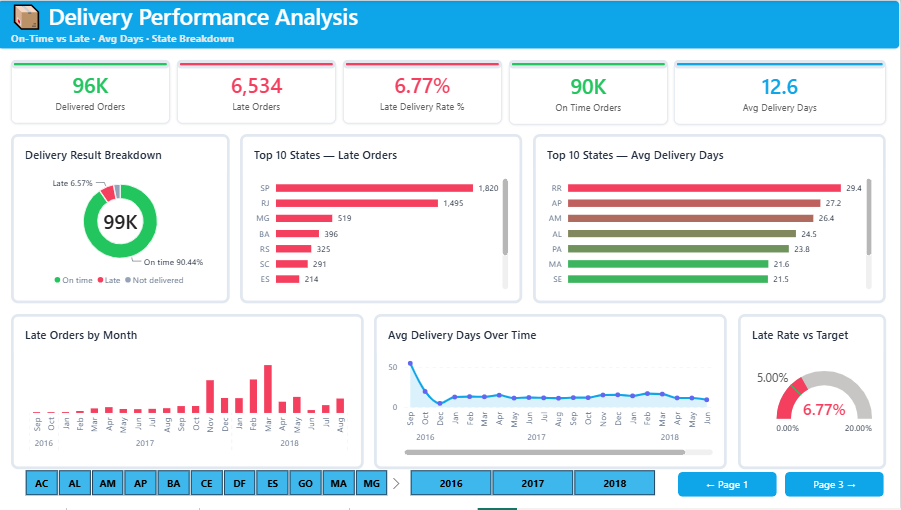

The page's visual inventory and layout, read from the dashboard file:
{"tool":"powerbi","page":{"name":"Delivery Analysis","canvas":[1280,720],"ordinal":1},"visuals":[{"type":"shape","box":[0,0,1280,70],"z":0},{"type":"textbox","box":[19.7,0,700.8,64.4],"z":1000},{"type":"textbox","box":[20,44,700,20],"z":2000},{"type":"card","fields":{"Values":["Orders.Delivered Orders"]},"box":[20,85,225,90],"z":3000},{"type":"card","fields":{"Values":["Orders.On Time Orders"]},"box":[725,85.8,225,90],"z":4000},{"type":"card","fields":{"Values":["Orders.Late Delivery Rate %"]},"box":[490,85,225,90],"z":5000},{"type":"card","fields":{"Values":["Orders.Late Orders"]},"box":[255,85,225,90],"z":6000},{"type":"card","fields":{"Values":["Orders.Avg Delivery Days"]},"box":[960,85.8,300,90],"z":7000},{"type":"shape","box":[20,85,225,12],"z":8000},{"type":"shape","box":[255,85,225,12],"z":9000},{"type":"shape","box":[490,85,225,12],"z":10000},{"type":"shape","box":[725,85,225,12],"z":11000},{"type":"shape","box":[960,85,300,12],"z":12000},{"type":"lineChart","title":"Avg Delivery Days Over Time","fields":{"Category":["DateTable.Year","DateTable.Month"],"Y":["Orders.Avg Delivery Days"]},"box":[535,445,500,220],"z":13000},{"type":"donutChart","title":"Delivery Result Breakdown","fields":{"Category":["Orders.Delivery Result"],"Y":["Orders.Total Orders"]},"box":[20,190,310,240],"z":14000},{"type":"clusteredBarChart","title":"Top 10 States — Late Orders","fields":{"Category":["Customers.customer_state"],"Y":["Orders.Late Orders"]},"box":[345,190,400,240],"z":15000},{"type":"clusteredColumnChart","title":"Late Orders by Month","fields":{"Category":["DateTable.Year","DateTable.Month"],"Y":["Orders.Late Orders"]},"box":[20,445,500,220],"z":16000},{"type":"slicer","fields":{"Values":["DateTable.Year"]},"box":[564.9,665,386.1,39.3],"z":17000},{"type":"slicer","fields":{"Values":["Customers.customer_state"]},"box":[19.7,665,552.4,39.3],"z":18000},{"type":"actionButton","box":[1117.3,668.6,140,35],"z":19000},{"type":"clusteredBarChart","title":"Top 10 States — Avg Delivery Days","fields":{"Category":["Customers.customer_state"],"Y":["Orders.Avg Delivery Days"]},"box":[760,190,500,240],"z":20000},{"type":"gauge","title":"Late Rate vs Target","fields":{"Y":["Orders.Late Delivery Rate %"]},"box":[1050,445,210,220],"z":21000},{"type":"actionButton","box":[965.4,668.6,140,35],"z":22000}]}

Visuals, with their boxes in screenshot pixels (x1, y1, x2, y2), scaled from the page's 1280x720 canvas onto the 901x510 screenshot:
shape: locate(0, 0, 900, 50)
textbox: locate(14, 0, 507, 46)
textbox: locate(14, 31, 507, 45)
card - Orders.Delivered Orders: locate(14, 60, 172, 124)
card - Orders.On Time Orders: locate(510, 61, 669, 125)
card - Orders.Late Delivery Rate %: locate(345, 60, 503, 124)
card - Orders.Late Orders: locate(179, 60, 338, 124)
card - Orders.Avg Delivery Days: locate(676, 61, 887, 125)
shape: locate(14, 60, 172, 69)
shape: locate(179, 60, 338, 69)
shape: locate(345, 60, 503, 69)
shape: locate(510, 60, 669, 69)
shape: locate(676, 60, 887, 69)
"Avg Delivery Days Over Time" lineChart: locate(377, 315, 729, 471)
"Delivery Result Breakdown" donutChart: locate(14, 135, 232, 305)
"Top 10 States — Late Orders" clusteredBarChart: locate(243, 135, 524, 305)
"Late Orders by Month" clusteredColumnChart: locate(14, 315, 366, 471)
slicer - DateTable.Year: locate(398, 471, 669, 499)
slicer - Customers.customer_state: locate(14, 471, 403, 499)
actionButton: locate(786, 474, 885, 498)
"Top 10 States — Avg Delivery Days" clusteredBarChart: locate(535, 135, 887, 305)
"Late Rate vs Target" gauge: locate(739, 315, 887, 471)
actionButton: locate(680, 474, 778, 498)
